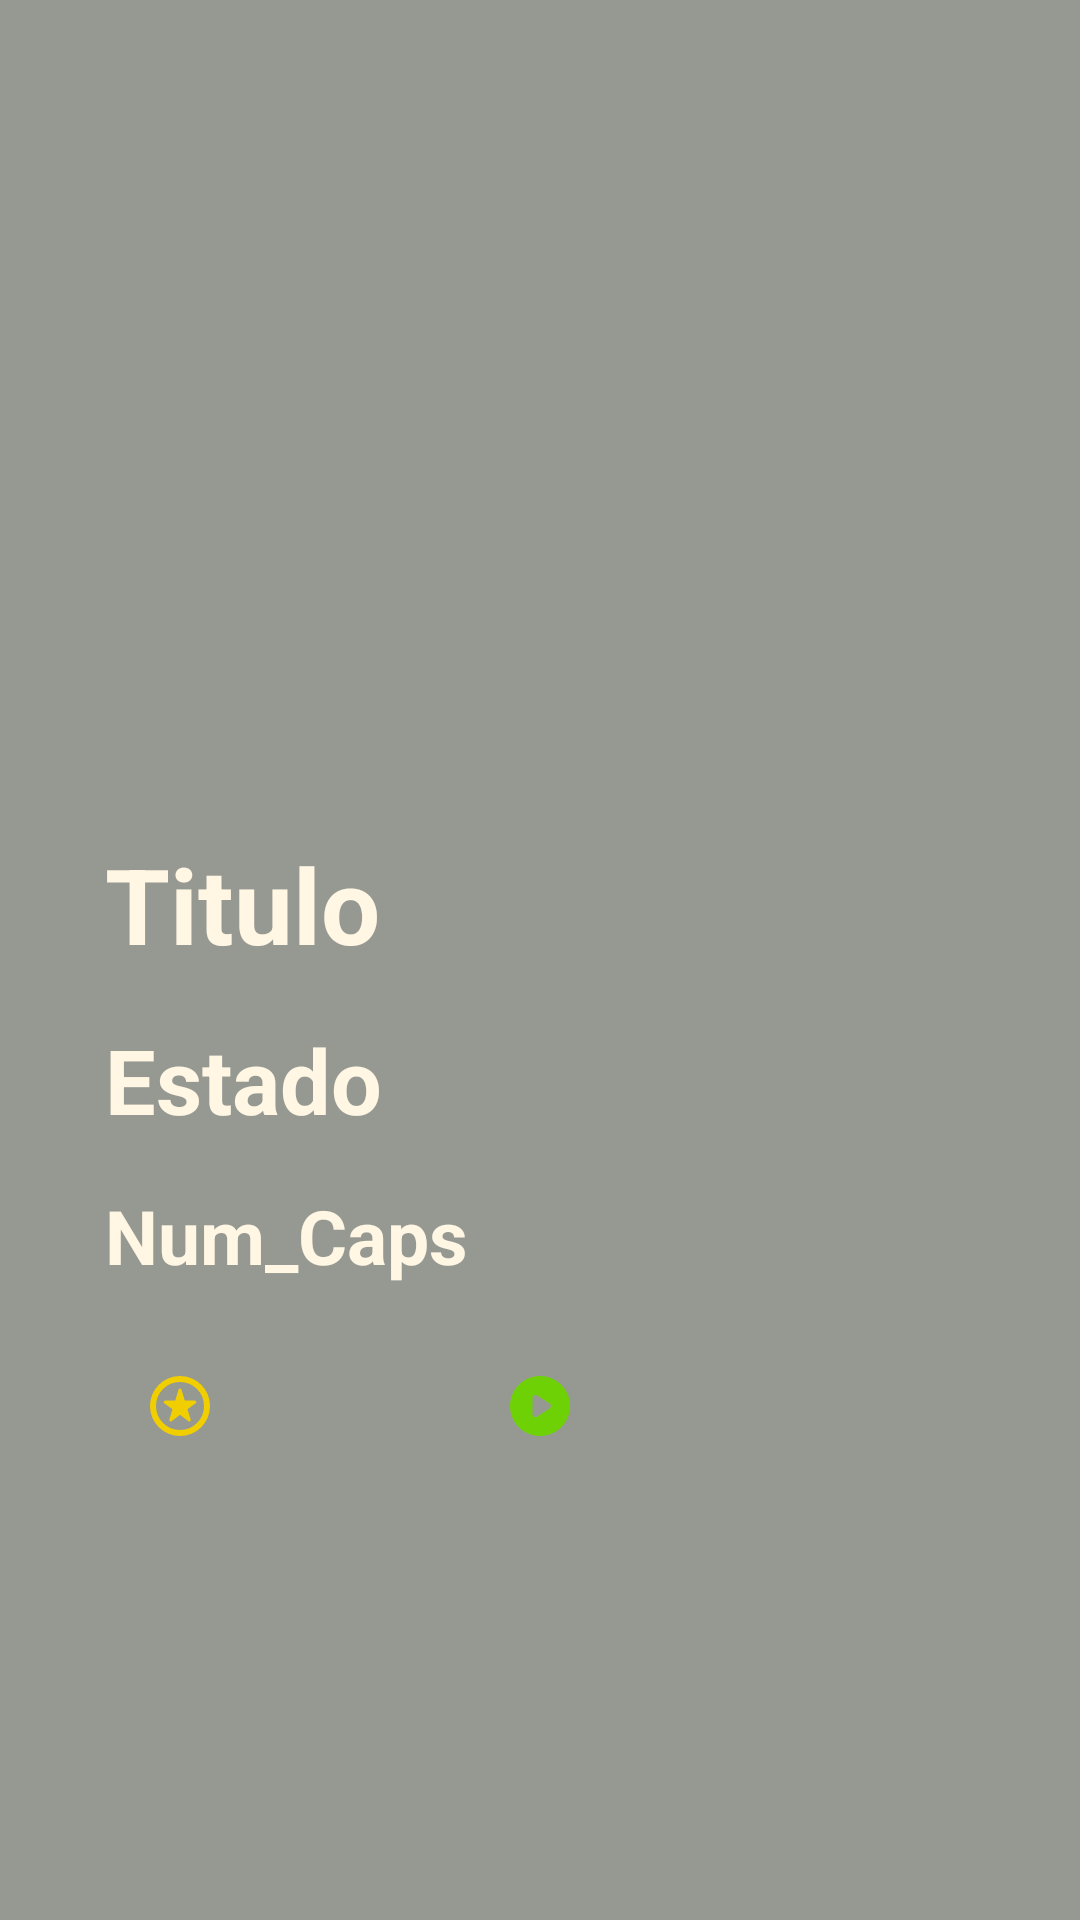

Icons on this 1080*1920 Android screen, each with the point to tap as (x,y):
comenzar: (540,1406)
favoritos: (180,1406)
